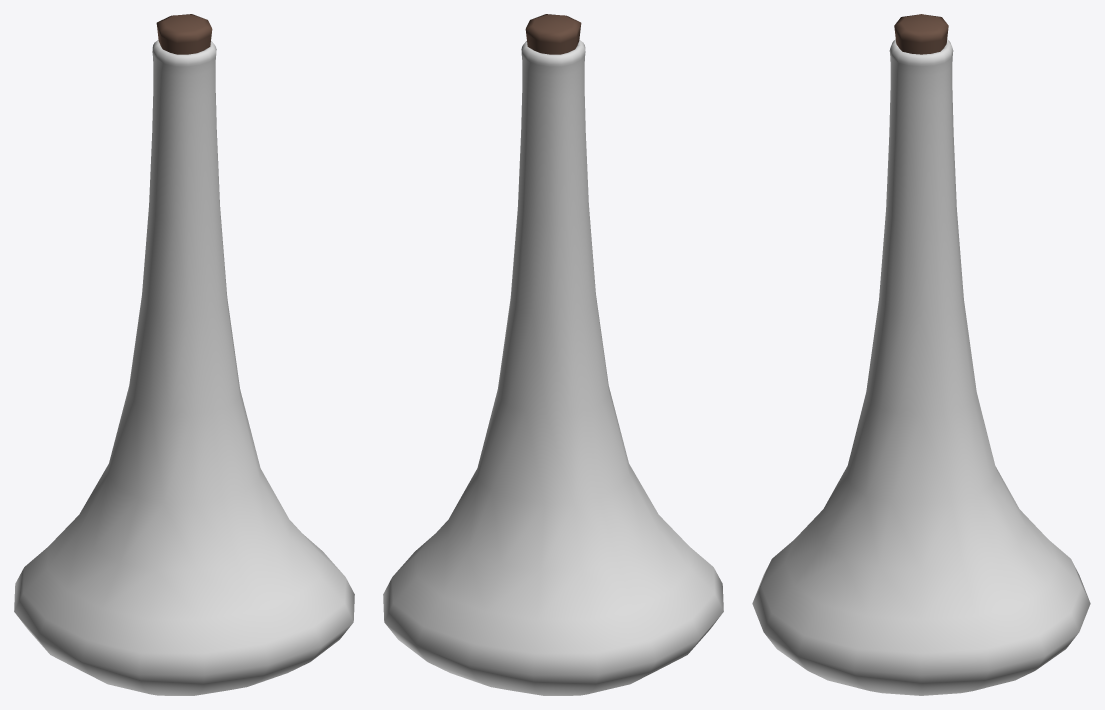
File: SM_Potion7_Empty.fbx
3 renders of one model, left to right at view 1: azimuth 30°, elevation 25°; view 2: azimuth 150°, elevation 25°; view 3: azimuth 270°, elevation 25°, orthographic.
Visible parts, largest first — view 1: SM_Potion7_Empty; view 2: SM_Potion7_Empty; view 3: SM_Potion7_Empty.
Boxes of the visible parts, x1=… form: SM_Potion7_Empty: x1=14, y1=14, x2=354, y2=695; SM_Potion7_Empty: x1=383, y1=14, x2=723, y2=695; SM_Potion7_Empty: x1=752, y1=14, x2=1090, y2=695.
Bounding box in the file's own units: 70.35 × 151 × 70.35.
